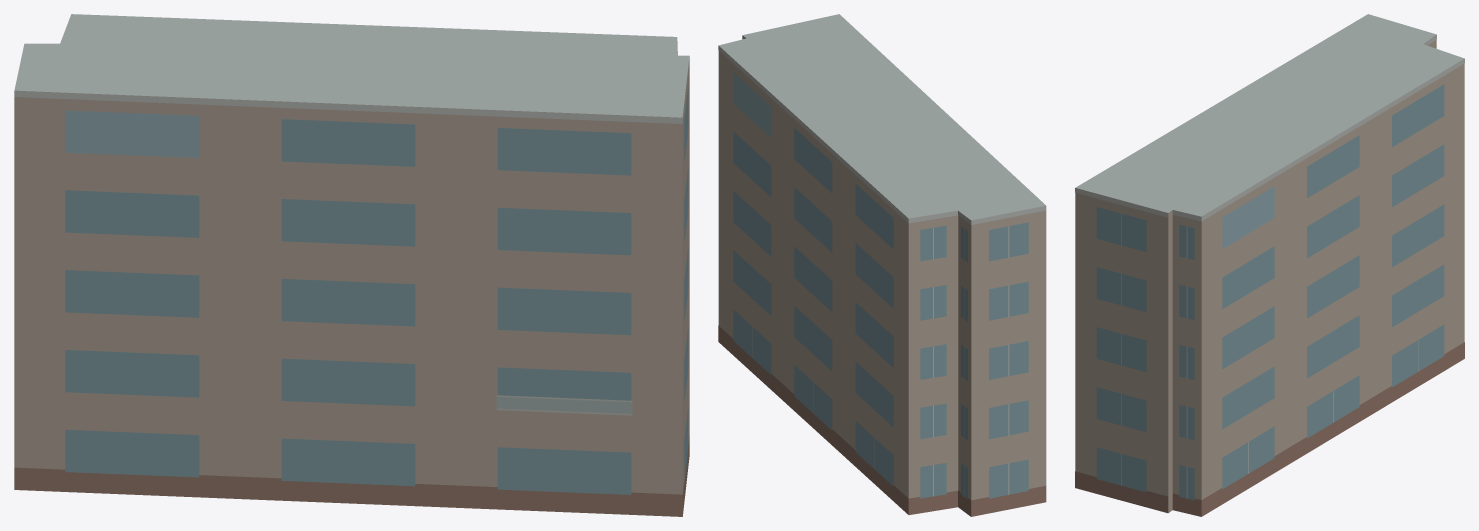
File: survey-upis-32872045.glb
3 renders of one model, left to right at view 1: azimuth 30°, elevation 25°; view 2: azimuth 150°, elevation 25°; view 3: azimuth 270°, elevation 25°, orthographic. The views are drawn at different scales.
Parts seen in each view (by area): view 1: survey-upis-32872045.tmp; view 2: survey-upis-32872045.tmp; view 3: survey-upis-32872045.tmp.
Boxes of the visible parts, x1,y1,x2,y2 form: survey-upis-32872045.tmp: [14, 14, 689, 516]; survey-upis-32872045.tmp: [718, 14, 1046, 516]; survey-upis-32872045.tmp: [1075, 14, 1464, 516].
Bounding box in the file's own units: 22.09 × 15.25 × 17.94.
